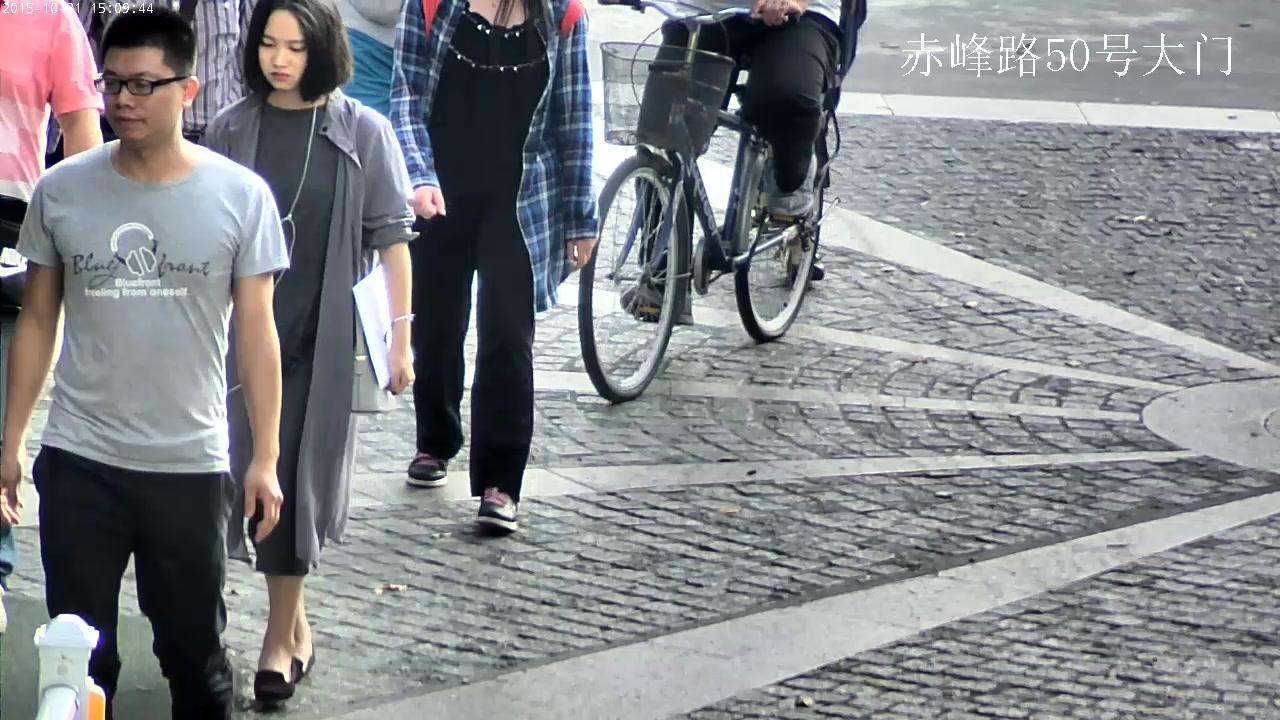person: (0, 0, 292, 720), (200, 0, 419, 712), (385, 0, 601, 536), (577, 0, 843, 404), (620, 0, 842, 329), (0, 0, 105, 638)
